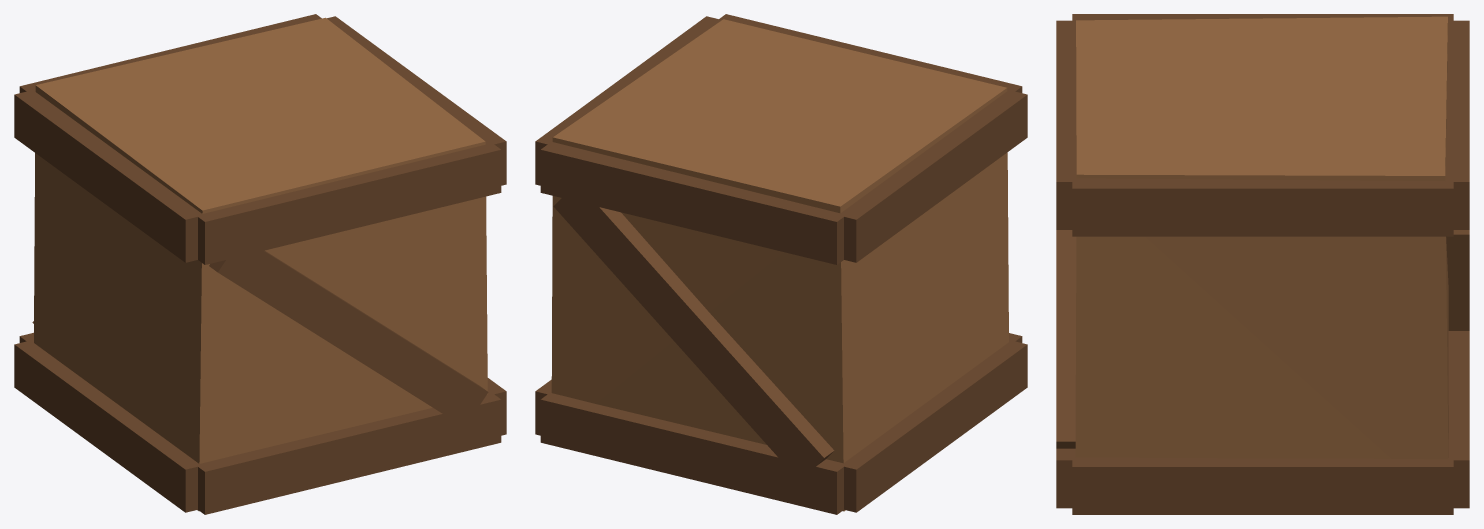
File: SM_Crate_A.fbx
3 views of the same model, side by side, from view 1: azimuth 30°, elevation 25°; view 2: azimuth 150°, elevation 25°; view 3: azimuth 270°, elevation 25° (orthographic). The views are drawn at different scales.
Visible parts, largest first — view 1: SM_Crate_A; view 2: SM_Crate_A; view 3: SM_Crate_A.
Boxes of the visible parts, x1,y1,x2,y2 form: SM_Crate_A: (14, 14, 506, 514); SM_Crate_A: (535, 14, 1027, 514); SM_Crate_A: (1056, 14, 1469, 514).
Size of the model in its own units: 0.78 by 0.7073 by 0.78.
